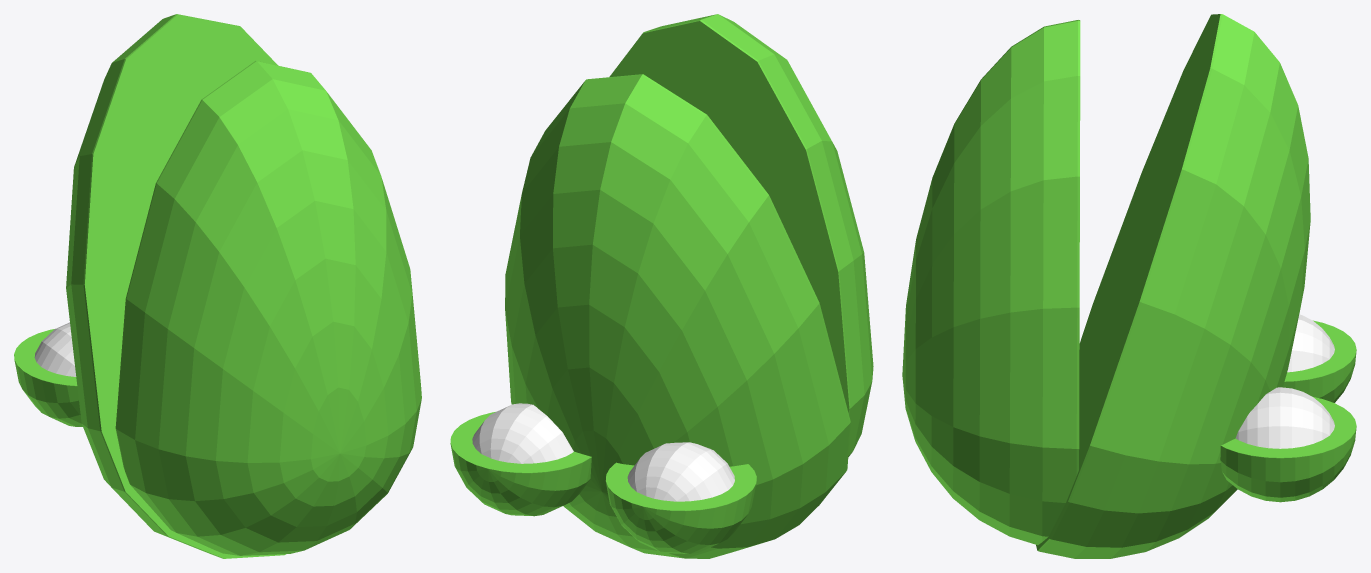
The model's file is голова поверн.fbx.
The picture shows the model from 3 angles, left to right: view 1: azimuth 30°, elevation 25°; view 2: azimuth 150°, elevation 25°; view 3: azimuth 270°, elevation 25°; orthographic projection. The views are drawn at different scales.
Parts seen in each view (by area): view 1: голова, глаза; view 2: голова, глаза; view 3: голова, глаза.
Boxes of the visible parts, bbox=[...] form: голова: bbox=[14, 14, 421, 558]; глаза: bbox=[34, 322, 76, 376]; голова: bbox=[450, 14, 873, 558]; глаза: bbox=[472, 403, 734, 501]; голова: bbox=[902, 14, 1356, 558]; глаза: bbox=[1235, 314, 1334, 448].
Size of the model in its own units: 200 by 312 by 247.
